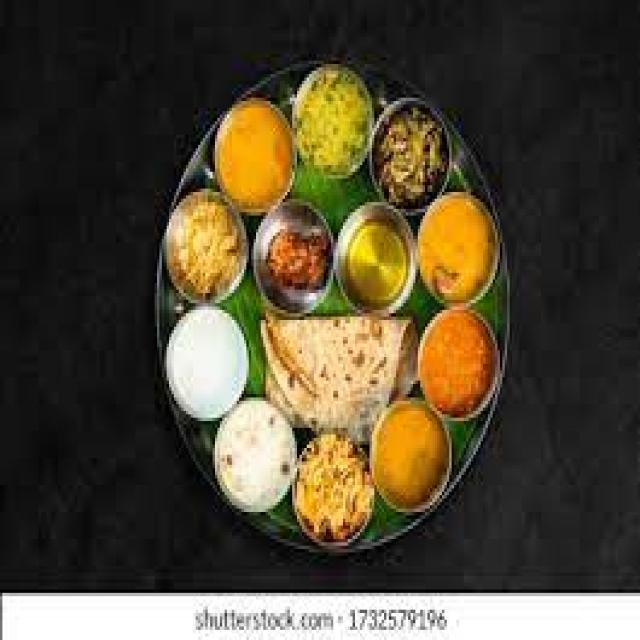curd: (158, 290, 261, 420)
dal: (204, 95, 302, 209), (370, 402, 455, 508), (417, 195, 500, 297), (417, 315, 502, 413)
papad: (264, 301, 420, 433)
pickle: (260, 212, 335, 297)
raita: (161, 297, 261, 420)
sweet: (213, 403, 299, 513)
